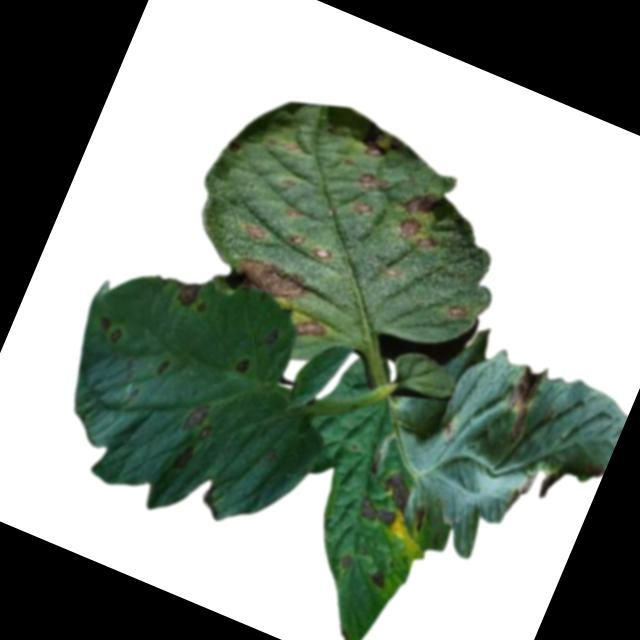Early_blight: (214, 245, 314, 323), (489, 358, 550, 446), (388, 211, 442, 256), (173, 397, 222, 445), (502, 462, 541, 519), (361, 123, 406, 167), (352, 492, 400, 532), (376, 469, 418, 512), (163, 274, 202, 313), (402, 183, 441, 220), (354, 167, 391, 201), (292, 314, 330, 347), (93, 315, 124, 346), (239, 218, 271, 248), (168, 441, 195, 476), (442, 296, 471, 325), (362, 565, 391, 593), (350, 197, 378, 222), (308, 242, 334, 267), (228, 353, 252, 379), (335, 551, 355, 572), (286, 231, 307, 250), (152, 358, 170, 377)
